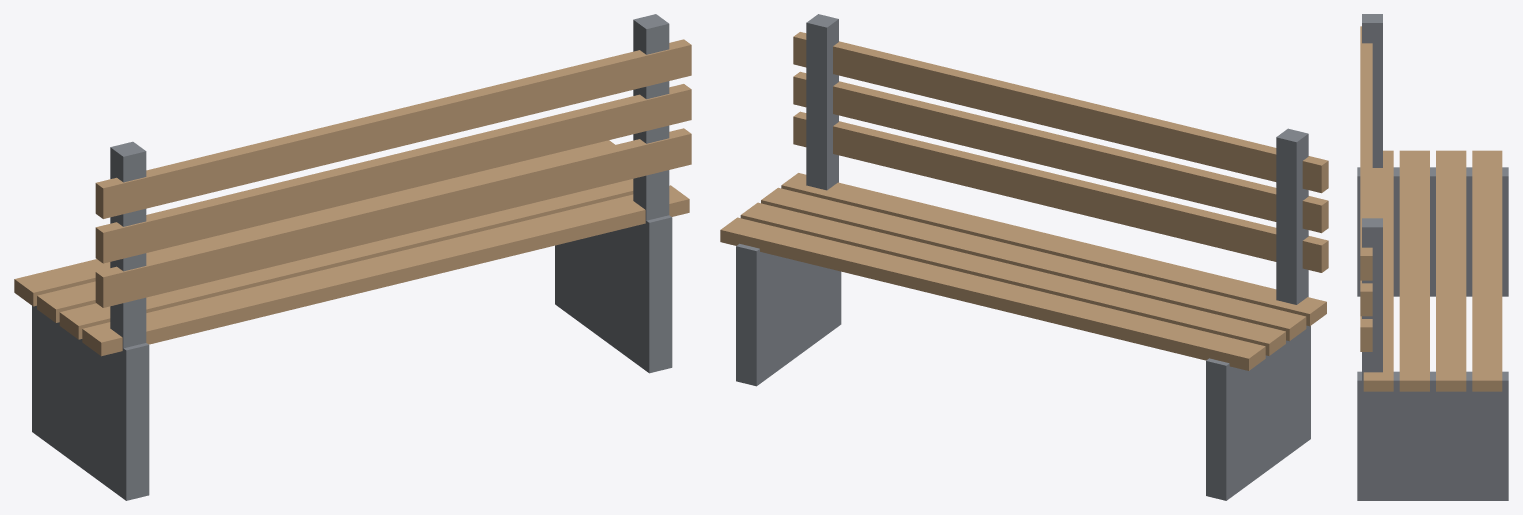
Rendered from bench_street.glb.
The picture shows the model from 3 angles, left to right: view 1: azimuth 30°, elevation 25°; view 2: azimuth 150°, elevation 25°; view 3: azimuth 270°, elevation 25°; orthographic projection. The views are drawn at different scales.
Parts seen in each view (by area): view 1: bench_street; view 2: bench_street; view 3: bench_street.
Boxes of the visible parts, <box> form: bench_street: <box>14,14,691,500</box>; bench_street: <box>720,14,1328,500</box>; bench_street: <box>1357,14,1508,500</box>.
Size of the model in its own units: 1.8 by 1 by 0.5.
